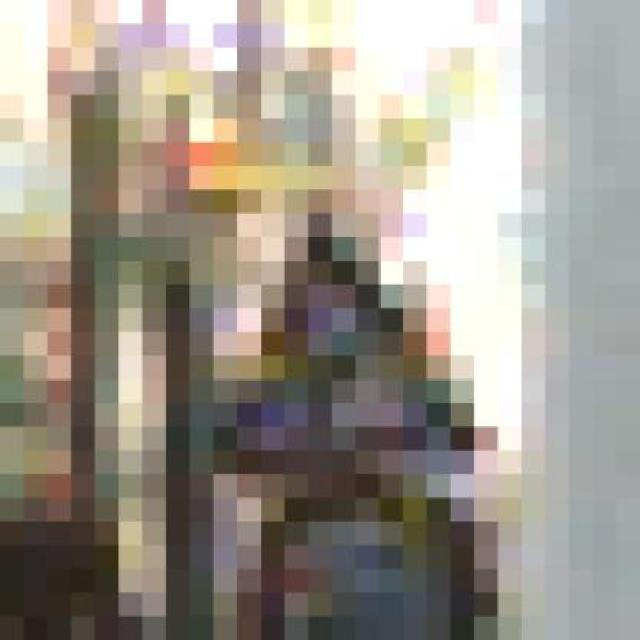Dangerous Rright Curve Ahead: (142, 190, 522, 498)
